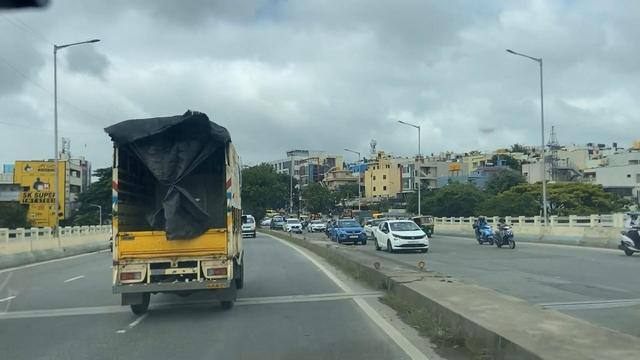HMV: (107, 107, 244, 317)
